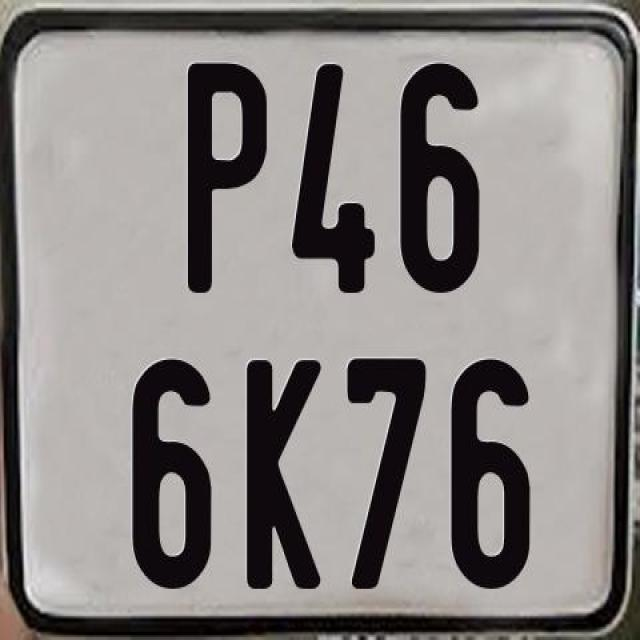4: (288, 64, 372, 293)
6: (448, 358, 536, 592), (398, 62, 482, 293), (130, 353, 210, 588)
7: (342, 358, 426, 598)
K: (247, 358, 326, 589)
P: (188, 58, 272, 288)
